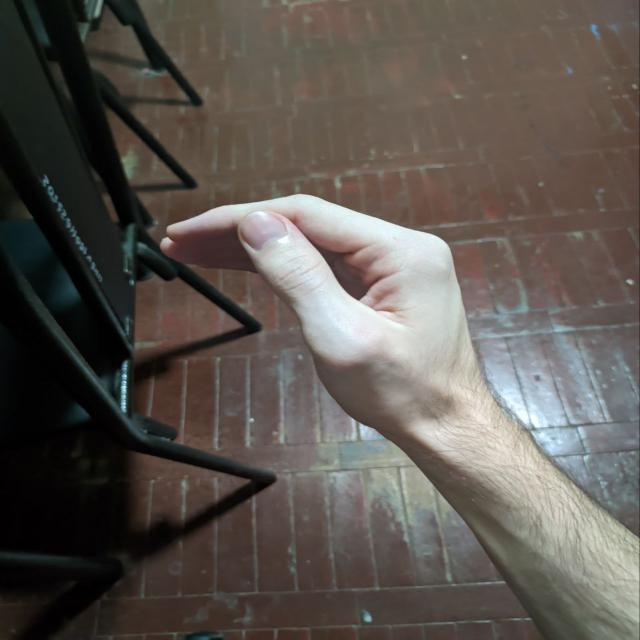f: (108, 185, 526, 453)
